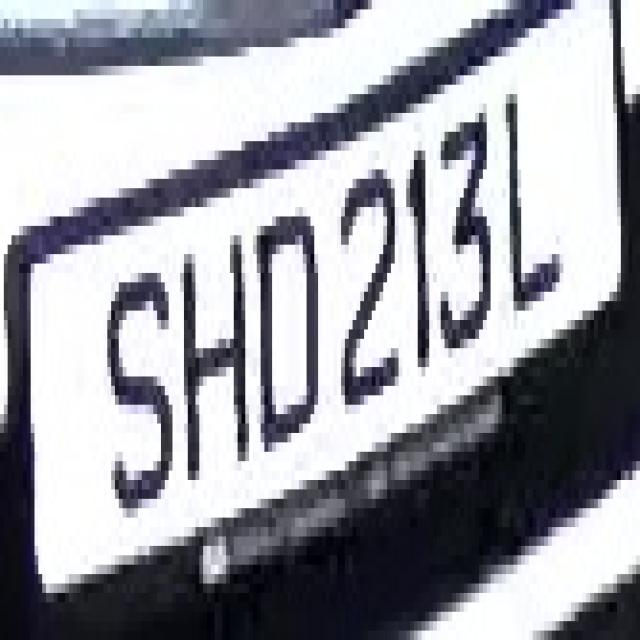1: (398, 94, 441, 414)
2: (337, 141, 399, 433)
3: (429, 66, 491, 376)
D: (245, 170, 322, 462)
H: (172, 198, 257, 490)
L: (498, 47, 571, 339)
S: (100, 245, 184, 527)
